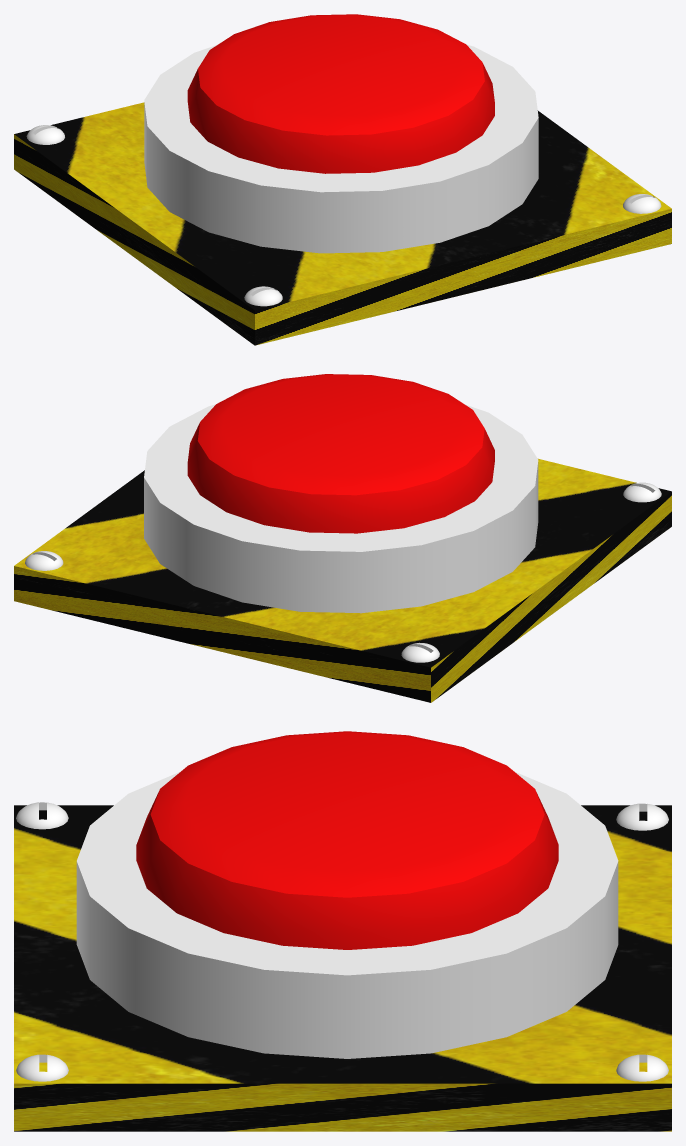
File: redButton.fbx
3 views of the same model, one above another, from view 1: azimuth 30°, elevation 25°; view 2: azimuth 150°, elevation 25°; view 3: azimuth 270°, elevation 25° (orthographic). The views are drawn at different scales.
Parts seen in each view (by area): view 1: pCube1, pCylinder2, pCylinder1, pSphere14, pSphere11, pSphere13; view 2: pCube1, pCylinder2, pCylinder1, pSphere13, pSphere12, pSphere14; view 3: pCube1, pCylinder2, pCylinder1, pSphere11, pSphere12, pSphere13, pSphere14.
Boxes of the visible parts, x1=… form: pCube1: x1=14, y1=102, x2=671, y2=345; pCylinder2: x1=187, y1=14, x2=494, y2=173; pCylinder1: x1=144, y1=44, x2=538, y2=253; pSphere14: x1=244, y1=286, x2=282, y2=306; pSphere11: x1=623, y1=194, x2=661, y2=213; pSphere13: x1=26, y1=125, x2=64, y2=144; pCube1: x1=14, y1=458, x2=671, y2=702; pCylinder2: x1=187, y1=374, x2=494, y2=533; pCylinder1: x1=144, y1=404, x2=538, y2=613; pSphere13: x1=401, y1=642, x2=439, y2=662; pSphere12: x1=25, y1=551, x2=63, y2=570; pSphere14: x1=623, y1=482, x2=661, y2=502; pCube1: x1=14, y1=805, x2=671, y2=1131; pCylinder2: x1=136, y1=731, x2=558, y2=949; pCylinder1: x1=76, y1=771, x2=618, y2=1058; pSphere11: x1=16, y1=1054, x2=68, y2=1081; pSphere12: x1=616, y1=1054, x2=668, y2=1081; pSphere13: x1=616, y1=803, x2=668, y2=830; pSphere14: x1=16, y1=802, x2=68, y2=829.
Size of the model in its own units: 138 by 44.01 by 138.
4 materials, 1 textured.
